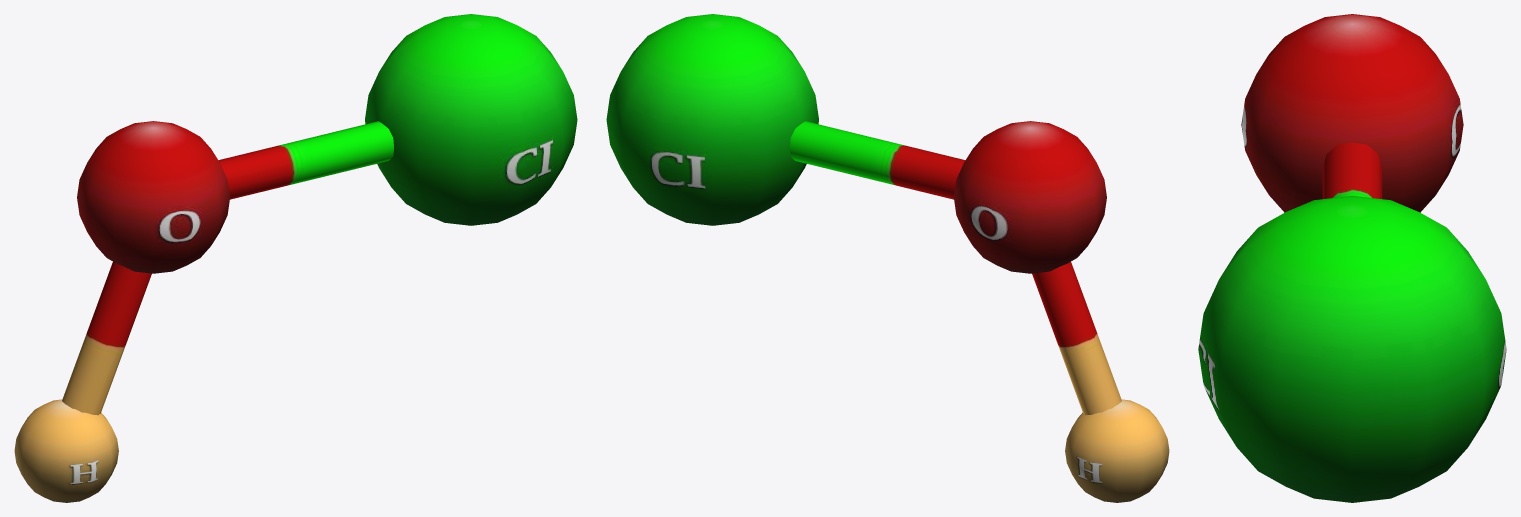
Rendered from HOCI.dae.
3 renders of one model, left to right at view 1: azimuth 30°, elevation 25°; view 2: azimuth 150°, elevation 25°; view 3: azimuth 270°, elevation 25°, orthographic. The views are drawn at different scales.
Parts seen in each view (by area): view 1: polySurface7; view 2: polySurface7; view 3: polySurface7.
Boxes of the visible parts, x1,y1,x2,y2 form: polySurface7: (14,14,577,502); polySurface7: (606,14,1169,502); polySurface7: (1198,14,1506,502).
Bounding box in the file's own units: 3.6 × 2.39 × 1.22.
1 material, 1 textured.
